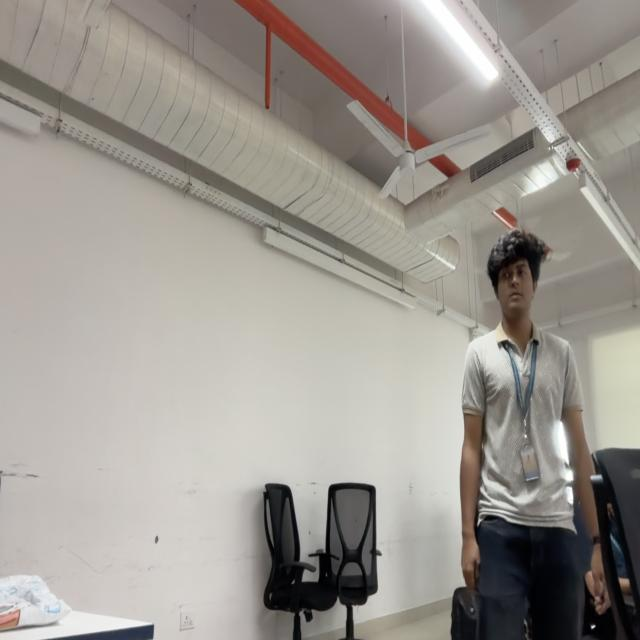kshitij: (488, 231, 552, 319)
